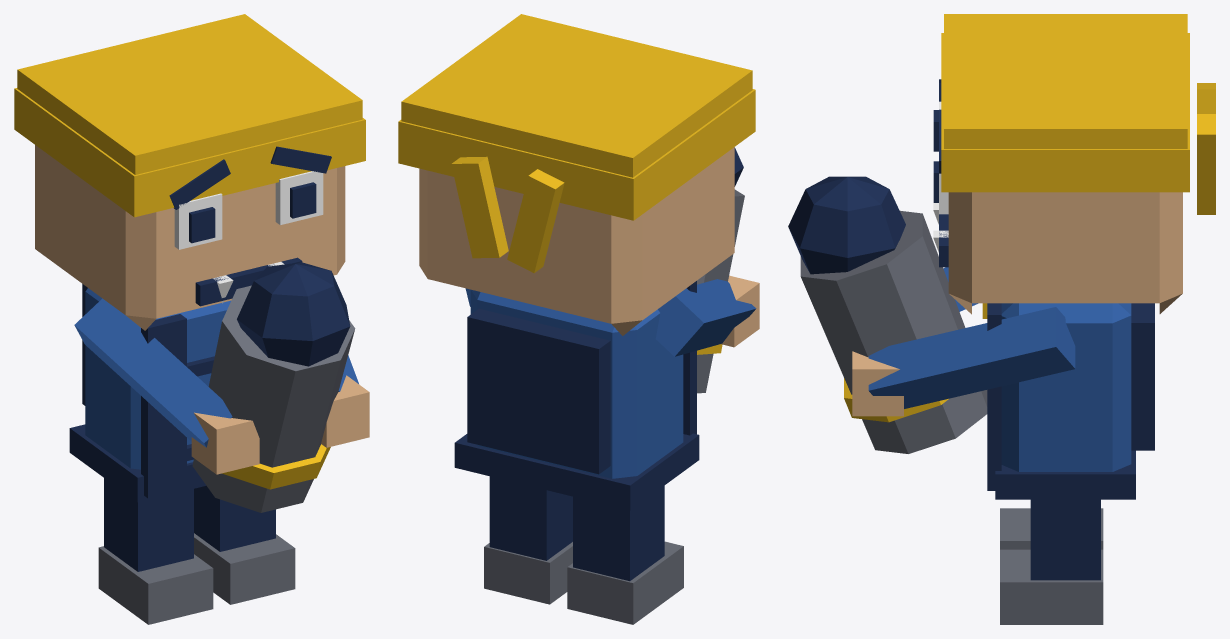
The model's file is mortar_r13.glb.
3 views of the same model, side by side, from view 1: azimuth 30°, elevation 25°; view 2: azimuth 150°, elevation 25°; view 3: azimuth 270°, elevation 25° (orthographic). The views are drawn at different scales.
Parts seen in each view (by area): view 1: mortar_r13_mesh; view 2: mortar_r13_mesh; view 3: mortar_r13_mesh.
Part boxes in pixels (<box>): mortar_r13_mesh: <box>14,14,369,624</box>; mortar_r13_mesh: <box>398,14,759,624</box>; mortar_r13_mesh: <box>788,14,1215,624</box>.
Size of the model in its own units: 0.8588 by 1.7 by 1.28.
1 material, 1 textured.
